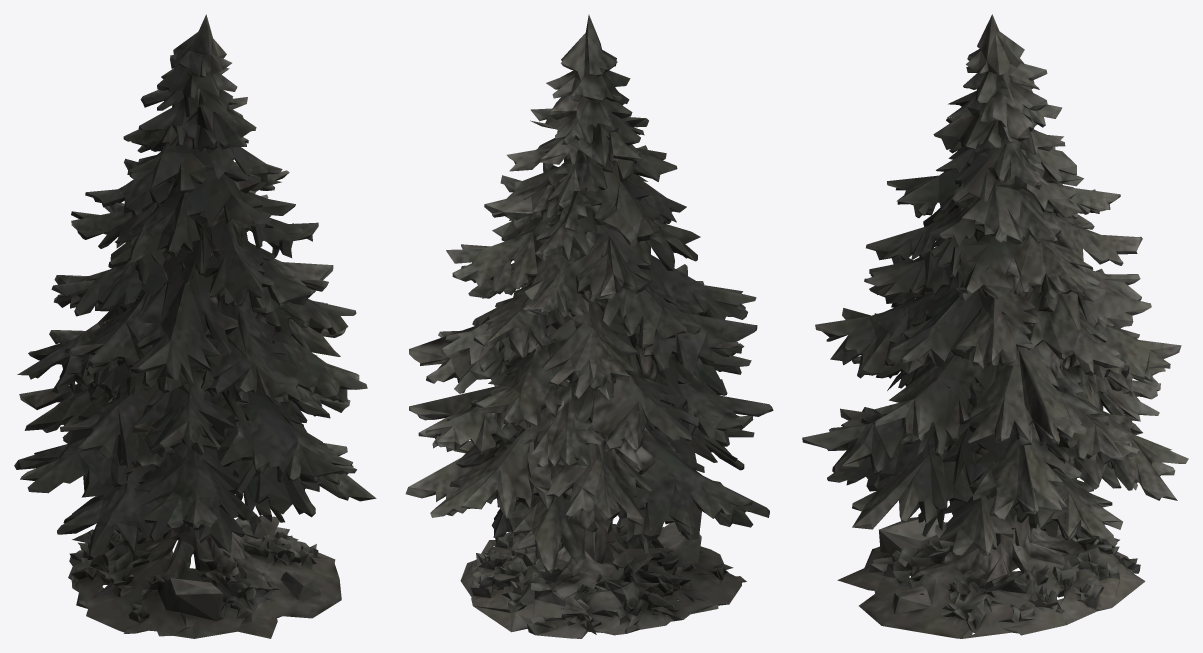
Rendered from war_pine_burnt_01.glb.
The picture shows the model from 3 angles, left to right: view 1: azimuth 30°, elevation 25°; view 2: azimuth 150°, elevation 25°; view 3: azimuth 270°, elevation 25°; orthographic projection.
Visible parts, largest first — view 1: geometry_0; view 2: geometry_0; view 3: geometry_0.
Boxes of the visible parts, x1=… form: geometry_0: x1=14, y1=14, x2=376, y2=638; geometry_0: x1=405, y1=14, x2=773, y2=638; geometry_0: x1=802, y1=14, x2=1188, y2=638.
Size of the model in its own units: 0.6074 by 0.9988 by 0.6118.
Materials: 1 (1 with a texture image).
